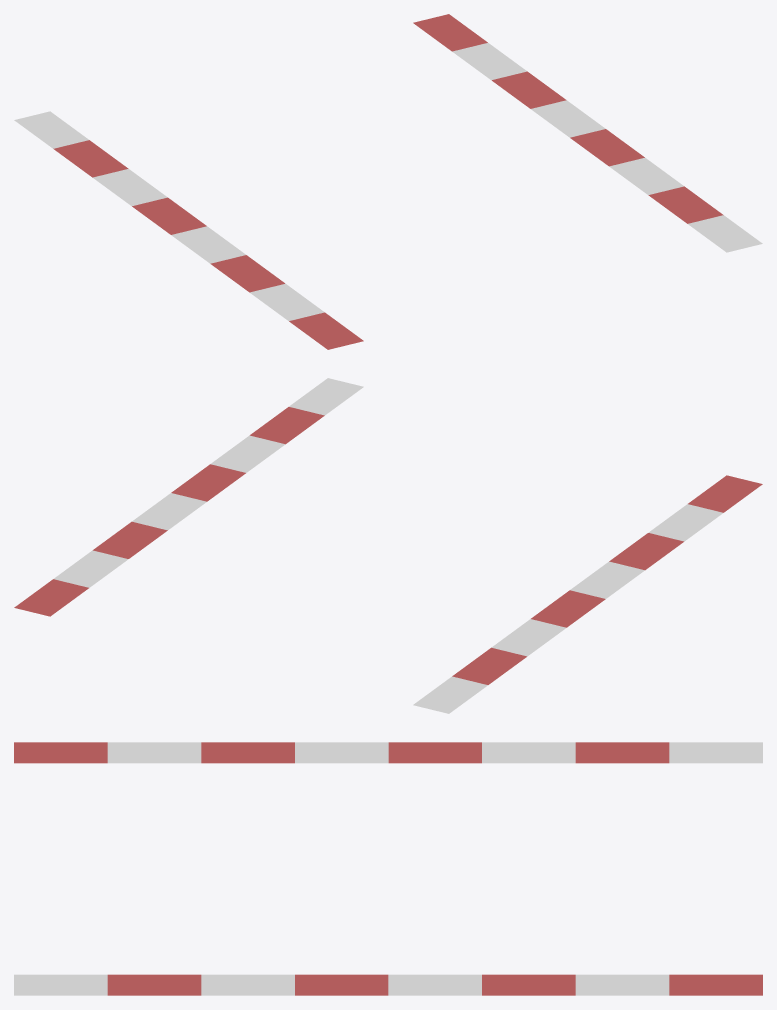
Rendered from Straight Guides.fbx.
The picture shows the model from 3 angles, top to bottom: view 1: azimuth 30°, elevation 25°; view 2: azimuth 150°, elevation 25°; view 3: azimuth 270°, elevation 25°; orthographic projection. The views are drawn at different scales.
Visible parts, largest first — view 1: Straight Guides; view 2: Straight Guides; view 3: Straight Guides.
Part boxes in pixels (x1=…): Straight Guides: x1=14, y1=14, x2=762, y2=349; Straight Guides: x1=14, y1=378, x2=762, y2=713; Straight Guides: x1=14, y1=742, x2=762, y2=995.
Bounding box in the file's own units: 2.4 × 0 × 3.
